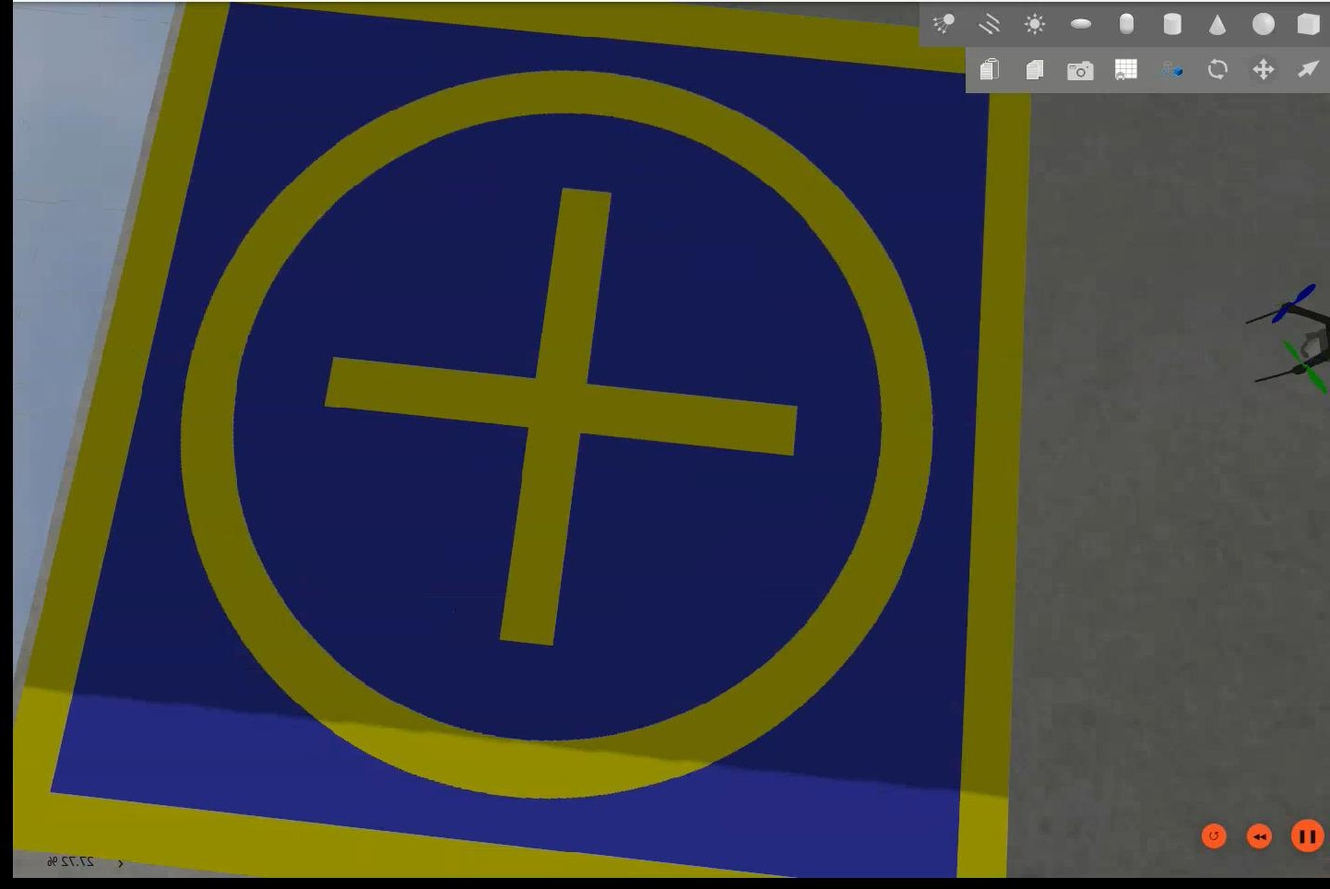small_base: (9, 2, 1033, 880)
